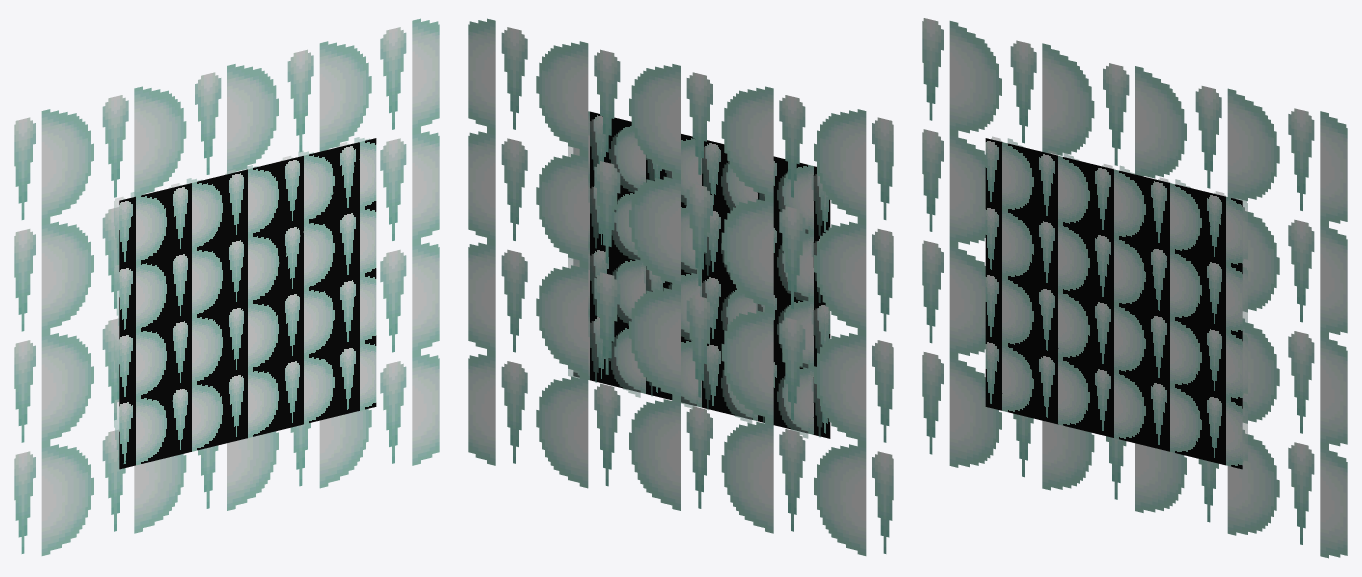
The picture shows the model from 3 angles, left to right: view 1: azimuth 30°, elevation 25°; view 2: azimuth 150°, elevation 25°; view 3: azimuth 330°, elevation 25°; orthographic projection.
Parts seen in each view (by area): view 1: ef_178; view 2: ef_178; view 3: ef_178.
Part boxes in pixels (x1,y1,x2,y2): ef_178: (14, 18, 439, 555); ef_178: (468, 18, 893, 555); ef_178: (922, 18, 1347, 558).
Bounding box in the file's own units: 0.6623 × 0.6623 × 0.0562.
Materials: 3 (3 with a texture image).
